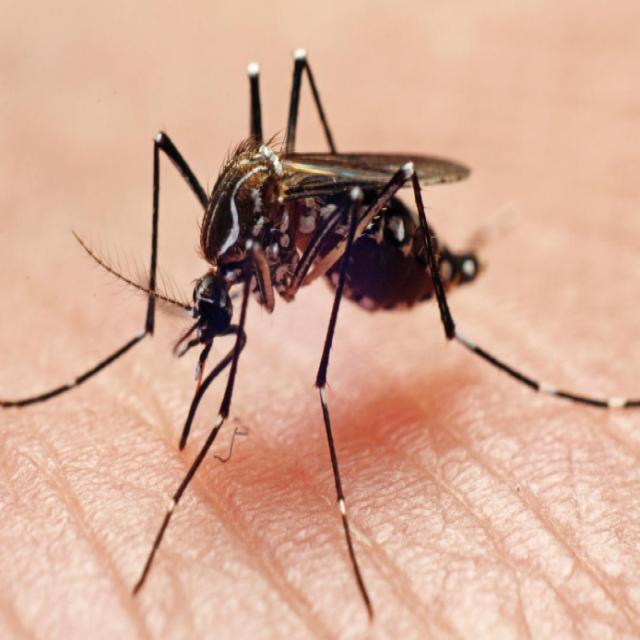Mosquito: (66, 43, 557, 617)
